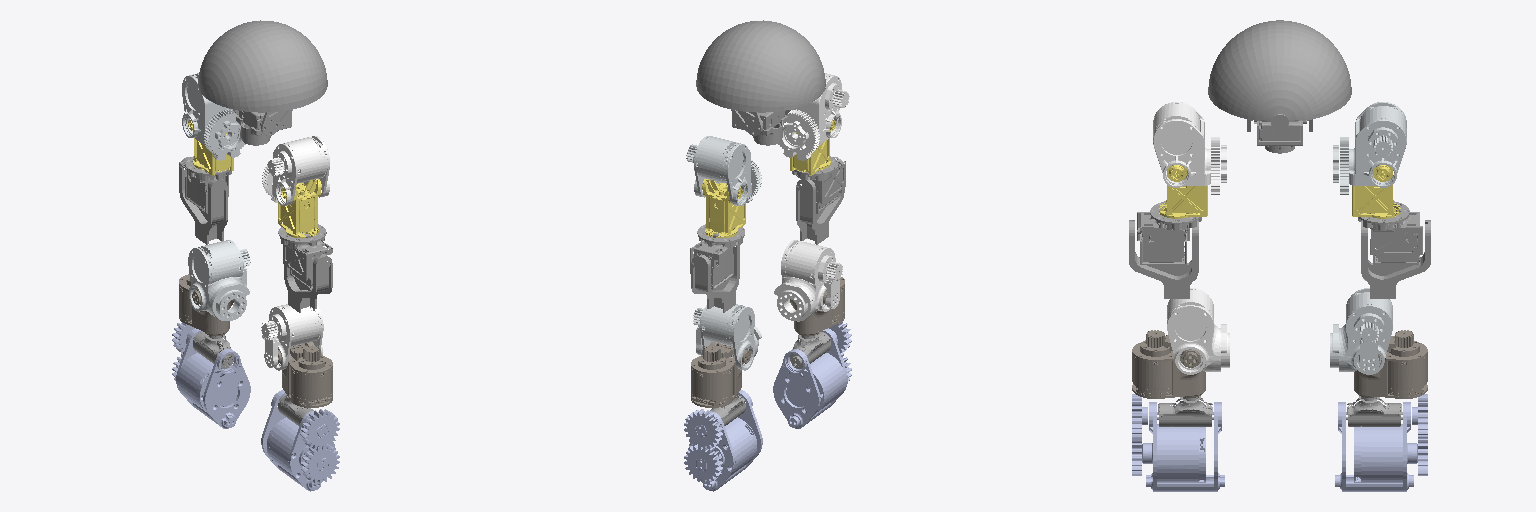
--- Facts derived from the render (not from the file) ---
Views: 3 orthographic renders of the robot side by side, from view 1: azimuth 30°, elevation 25°; view 2: azimuth 150°, elevation 25°; view 3: azimuth 270°, elevation 25°.
Model Pikachu_V025 with 25 links and 24 joints (21 revolute, 3 fixed), rooted at base_link, posed all joints at 0.
Links seen in each view (by area): view 1: head_roll_link, right_knee_link, left_knee_link, left_hip_pitch_link, right_arm_pitch_link, left_arm_pitch_link, right_hip_roll_link, right_hip_pitch_link, left_elbow_ankle_link, right_arm_roll_link, right_arm_yaw_link, right_elbow_ankle_link (+5 smaller); view 2: head_roll_link, left_knee_link, right_knee_link, right_hip_pitch_link, left_arm_pitch_link, right_arm_pitch_link, left_hip_roll_link, left_hip_pitch_link, left_arm_roll_link, right_elbow_ankle_link, left_elbow_ankle_link, left_arm_yaw_link (+5 smaller); view 3: head_roll_link, right_knee_link, left_knee_link, left_arm_pitch_link, right_arm_pitch_link, left_hip_pitch_link, right_hip_pitch_link, right_hip_roll_link, left_hip_roll_link, left_arm_yaw_link, right_arm_yaw_link, left_elbow_ankle_link (+6 smaller).
Boxes of the visible links, box(x1,y1,x2,y2) form: head_roll_link: box(198, 20, 327, 112); right_knee_link: box(261, 390, 339, 491); left_knee_link: box(172, 322, 250, 428); left_hip_pitch_link: box(188, 240, 250, 321); right_arm_pitch_link: box(262, 136, 329, 205); left_arm_pitch_link: box(182, 73, 245, 160); right_hip_roll_link: box(278, 342, 332, 407); right_hip_pitch_link: box(261, 304, 323, 370); left_elbow_ankle_link: box(179, 157, 227, 244); right_arm_roll_link: box(278, 179, 321, 238); right_arm_yaw_link: box(278, 224, 332, 289); right_elbow_ankle_link: box(284, 241, 332, 312); head_roll_link: box(696, 20, 825, 112); left_knee_link: box(684, 390, 762, 491); right_knee_link: box(773, 321, 851, 428); right_hip_pitch_link: box(774, 240, 842, 321); left_arm_pitch_link: box(686, 136, 761, 205); right_arm_pitch_link: box(778, 73, 849, 160); left_hip_roll_link: box(691, 342, 750, 407); left_hip_pitch_link: box(693, 304, 761, 370); left_arm_roll_link: box(702, 179, 745, 237); right_elbow_ankle_link: box(796, 157, 844, 244); left_elbow_ankle_link: box(691, 245, 739, 312); left_arm_yaw_link: box(690, 224, 744, 289); head_roll_link: box(1208, 20, 1351, 130); right_knee_link: box(1132, 394, 1224, 491); left_knee_link: box(1335, 394, 1427, 491); left_arm_pitch_link: box(1333, 102, 1406, 194); right_arm_pitch_link: box(1153, 102, 1226, 194); left_hip_pitch_link: box(1330, 288, 1392, 374); right_hip_pitch_link: box(1167, 288, 1229, 374); right_hip_roll_link: box(1132, 330, 1205, 398); left_hip_roll_link: box(1354, 330, 1427, 398); left_arm_yaw_link: box(1358, 201, 1422, 264); right_arm_yaw_link: box(1137, 201, 1201, 264); left_elbow_ankle_link: box(1361, 220, 1430, 298).
Bounding box of the posed robot: 0.14 × 0.2946 × 0.502 m (x, y, z).
19 mesh visuals loaded from 22 distinct referenced files (19 binary STL); not drawn: 3 (reference not matched to a file when rendering).

robot.urdf — Pikachu_V025:
<?xml version="1.0" encoding="utf-8"?>
<!-- This URDF was automatically created by SolidWorks to URDF Exporter! Originally created by Stephen Brawner ([email redacted]) 
     Commit Version: 1.6.0-4-g7f85cfe  Build Version: 1.6.7995.38578
     For more information, please see http://wiki.ros.org/sw_urdf_exporter -->
<robot
  name="Pikachu_V025">
  
  
  <!-- mujoco compiler insert -->
  
  <!-- <mujoco>
      <compiler 
      meshdir="assets/" 
      balanceinertia="true" 
      discardvisual="false"
      fusestatic="false"/> 
  </mujoco>
   -->
      
  <link
    name="base_link">
    <inertial>
      <origin
        xyz="-0.0248658973161246 -0.000239074546610159 0.104279920407504"
        rpy="0 0 0" />
      <mass
        value="1.4349217625148" />
      <inertia
        ixx="0.00227809712360146"
        ixy="2.98174508376629E-06"
        ixz="5.78838254414908E-05"
        iyy="0.00253243484222684"
        iyz="-1.55554654561799E-07"
        izz="0.00126163128832767" />
    </inertial>
    <visual>
      <origin
        xyz="0 0 0"
        rpy="0 0 0" />
      <geometry>
        <mesh
          filename="assets/base_torso_link.STL" />
      </geometry>
      <material
        name="">
        <color
          rgba="0.792156862745098 0.819607843137255 0.933333333333333 1" />
      </material>
    </visual>
    <collision>
      <origin
        xyz="0 0 0"
        rpy="0 0 0" />
      <geometry>
        <mesh
          filename="assets/base_torso_link.STL" />
      </geometry>
    </collision>
  </link>
  <link
    name="left_hip_pitch_link">
    <inertial>
      <origin
        xyz="0.00920325123013891 0.0289511213720265 0.0244534242110747"
        rpy="0 0 0" />
      <mass
        value="0.131128174369325" />
      <inertia
        ixx="3.09443359493404E-05"
        ixy="-1.46711074625832E-10"
        ixz="4.46526538448141E-08"
        iyy="2.96006347929105E-05"
        iyz="-1.87708399216609E-06"
        izz="2.46723339503116E-05" />
    </inertial>
    <visual>
      <origin
        xyz="0 0 0"
        rpy="0 0 0" />
      <geometry>
        <mesh
          filename="assets/left_hip_pitch_link.STL" />
      </geometry>
      <material
        name="">
        <color
          rgba="0.898039215686275 0.917647058823529 0.929411764705882 1" />
      </material>
    </visual>
    <collision>
      <origin
        xyz="0 0 0"
        rpy="0 0 0" />
      <geometry>
        <mesh
          filename="assets/left_hip_pitch_link.STL" />
      </geometry>
    </collision>
  </link>
  <joint
    name="left_hip_pitch_joint"
    type="revolute">
    <origin
      xyz="0 0.0515 0"
      rpy="0 0 0" />
    <parent
      link="base_link" />
    <child
      link="left_hip_pitch_link" />
    <axis
      xyz="0 -1 0" />
    <limit 
      lower="0"    
      upper="2.44"    
      effort="12.5"  
      velocity="2" />
   <dynamics 
      damping="0.4" 
      friction="0.01" />

  </joint>
  <link
    name="left_hip_roll_link">
    <inertial>
      <origin
        xyz="-2.06148097191985E-05 0.0257688798103179 -0.01094856081007"
        rpy="0 0 0" />
      <mass
        value="0.120459927292994" />
      <inertia
        ixx="2.633632775397E-05"
        ixy="-6.5720849529199E-09"
        ixz="1.20682872669599E-09"
        iyy="2.40005074630719E-05"
        iyz="3.94475733639461E-07"
        izz="2.98178904809497E-05" />
    </inertial>
    <visual>
      <origin
        xyz="0 0 0"
        rpy="0 0 0" />
      <geometry>
        <mesh
          filename="assets/left_hip_roll_link.STL" />
      </geometry>
      <material
        name="">
        <color
          rgba="0.647058823529412 0.619607843137255 0.588235294117647 1" />
      </material>
    </visual>
    <collision>
      <origin
        xyz="0 0 0"
        rpy="0 0 0" />
      <geometry>
        <mesh
          filename="assets/left_hip_roll_link.STL" />
      </geometry>
    </collision>
  </link>
  <joint
    name="left_hip_roll_joint"
    type="revolute">
    <origin
      xyz="0 0.0355 0"
      rpy="0 0 0" />
    <parent
      link="left_hip_pitch_link" />
    <child
      link="left_hip_roll_link" />
    <axis
      xyz="1 0 0" />
    <limit 
      lower="-0.09"    
      upper="0.26"    
      effort="9.0"  
      velocity="1" />
   <dynamics 
      damping="0.15" 
      friction="0.01" />

  </joint>
  <link
    name="left_hip_yaw_link">
    <inertial>
      <origin
        xyz="-0.00163503743808888 0.000676763376213745 0.0166626673400821"
        rpy="0 0 0" />
      <mass
        value="0.0410649211793094" />
      <inertia
        ixx="1.77921638680041E-05"
        ixy="9.1300490130741E-12"
        ixz="-1.10953780553641E-10"
        iyy="1.30755369286199E-05"
        iyz="9.36102356344644E-07"
        izz="7.35746919202218E-06" />
    </inertial>
    <visual>
      <origin
        xyz="0 0 0"
        rpy="0 0 0" />
      <geometry>
        <mesh
          filename="assets/left_hip_yaw_link.STL" />
      </geometry>
      <material
        name="">
        <color
          rgba="0.698039215686274 0.698039215686274 0.698039215686274 1" />
      </material>
    </visual>
    <collision>
      <origin
        xyz="0 0 0"
        rpy="0 0 0" />
      <geometry>
        <mesh
          filename="assets/left_hip_yaw_link.STL" />
      </geometry>
    </collision>
  </link>
  <joint
    name="left_hip_yaw_joint"
    type="revolute">
    <origin
      xyz="0 0 -0.046"
      rpy="0 0 0" />
    <parent
      link="left_hip_roll_link" />
    <child
      link="left_hip_yaw_link" />
    <axis
      xyz="0 0 1" />
    <limit 
      lower="-0.09"    
      upper="0.26"    
      effort="9.0"  
      velocity="1" />
   <dynamics 
      damping="0.15" 
      friction="0.01" />

  </joint>
  <link
    name="left_knee_link">
    <inertial>
      <origin
        xyz="7.33450698506389E-06 0.0238046516753096 -0.0335203032723837"
        rpy="0 0 0" />
      <mass
        value="0.218032110410692" />
      <inertia
        ixx="8.40369294332751E-05"
        ixy="-2.57475258202327E-09"
        ixz="-1.01985530829951E-07"
        iyy="8.32268027679501E-05"
        iyz="1.36287215654808E-07"
        izz="7.04023370459197E-05" />
    </inertial>
    <visual>
      <origin
        xyz="0 0 0"
        rpy="0 0 0" />
      <geometry>
        <mesh
          filename="assets/left_knee_link.STL" />
      </geometry>
      <material
        name="">
        <color
          rgba="0.792156862745098 0.819607843137255 0.933333333333333 1" />
      </material>
    </visual>
    <collision>
      <origin
        xyz="0 0 0"
        rpy="0 0 0" />
      <geometry>
        <mesh
          filename="assets/left_knee_link.STL" />
      </geometry>
    </collision>
  </link>
  <joint
    name="left_knee_joint"
    type="revolute">
    <origin
      xyz="0 0 -0.025"
      rpy="0 0 0" />
    <parent
      link="left_hip_yaw_link" />
    <child
      link="left_knee_link" />
    <axis
      xyz="0 1 0" />
    <limit 
      lower="0"    
      upper="1.57"    
      effort="12.5"  
      velocity="3" />
   <dynamics 
      damping="0.15" 
      friction="0.01" />

  </joint>
  <link
    name="left_ankle_link">
    <inertial>
      <origin
        xyz="-0.0136093342344966 0.0198623071860005 -0.0300854476118434"
        rpy="0 0 0" />
      <mass
        value="0.135141160870832" />
      <inertia
        ixx="6.67189716039094E-05"
        ixy="-2.97400845436551E-06"
        ixz="9.96013005677274E-07"
        iyy="8.35360465025887E-05"
        iyz="1.36310089927655E-06"
        izz="0.000101145055543541" />
    </inertial>
    <visual>
      <origin
        xyz="0 0 0"
        rpy="0 0 0" />
      <geometry>
        <mesh
          filename="assets/left_ankle_flat_link.STL" />
      </geometry>
      <material
        name="">
        <color
          rgba="0.698039215686274 0.698039215686274 0.698039215686274 1" />
      </material>
    </visual>
    <collision>
      <origin
        xyz="0 0 0"
        rpy="0 0 0" />
      <geometry>
        <mesh
          filename="assets/left_ankle_flat_link.STL" />
      </geometry>
    </collision>
  </link>
  <joint
    name="left_ankle_joint"
    type="revolute">
    <origin
      xyz="0 0 -0.0700000000000001"
      rpy="0 0 0" />
    <parent
      link="left_knee_link" />
    <child
      link="left_ankle_link" />
    <axis
      xyz="0 -1 0" />
    <limit 
      lower="-0.52"    
      upper="1.05"    
      effort="9.0"  
      velocity="2" />
   <dynamics 
      damping="0.4" 
      friction="0.01" />

  </joint>
  <link
    name="right_hip_pitch_link">
    <inertial>
      <origin
        xyz="-0.00920325122819299 -0.0289511213718761 0.0244534242087261"
        rpy="0 0 0" />
      <mass
        value="0.131128174380274" />
      <inertia
        ixx="3.09443359518294E-05"
        ixy="-1.46710536496736E-10"
        ixz="-4.46526515209002E-08"
        iyy="2.96006347975272E-05"
        iyz="1.87708399165884E-06"
        izz="2.4672333952739E-05" />
    </inertial>
    <visual>
      <origin
        xyz="0 0 0"
        rpy="0 0 0" />
      <geometry>
        <mesh
          filename="assets/right_hip_pitch_link.STL" />
      </geometry>
      <material
        name="">
        <color
          rgba="1 1 1 1" />
      </material>
    </visual>
    <collision>
      <origin
        xyz="0 0 0"
        rpy="0 0 0" />
      <geometry>
        <mesh
          filename="assets/right_hip_pitch_link.STL" />
      </geometry>
    </collision>
  </link>
  <joint
    name="right_hip_pitch_joint"
    type="revolute">
    <origin
      xyz="0 -0.0515 0"
      rpy="0 0 0" />
    <parent
      link="base_link" />
    <child
      link="right_hip_pitch_link" />
    <axis
      xyz="0 -1 0" />
    <limit 
      lower="0"    
      upper="2.44"    
      effort="12.5"  
      velocity="2" />
   <dynamics 
      damping="0.4" 
      friction="0.01" />

  </joint>
  <link
    name="right_hip_roll_link">
    <inertial>
      <origin
        xyz="-0.000142110260022219 -0.0257568154792935 -0.0109485611671593"
        rpy="0 0 0" />
      <mass
        value="0.120459924755024" />
      <inertia
        ixx="2.63150070908483E-05"
        ixy="-1.49569580778851E-07"
        ixz="9.07152398469171E-09"
        iyy="2.40218277317685E-05"
        iyz="-3.95237725228403E-07"
        izz="2.9817890112597E-05" />
    </inertial>
    <visual>
      <origin
        xyz="0 0 0"
        rpy="0 0 0" />
      <geometry>
        <mesh
          filename="assets/right_hip_roll_link.STL" />
      </geometry>
      <material
        name="">
        <color
          rgba="0.647058823529412 0.619607843137255 0.588235294117647 1" />
      </material>
    </visual>
    <collision>
      <origin
        xyz="0 0 0"
        rpy="0 0 0" />
      <geometry>
        <mesh
          filename="assets/right_hip_roll_link.STL" />
      </geometry>
    </collision>
  </link>
  <joint
    name="right_hip_roll_joint"
    type="revolute">
    <origin
      xyz="0 -0.0355 0"
      rpy="0 0 0" />
    <parent
      link="right_hip_pitch_link" />
    <child
      link="right_hip_roll_link" />
    <axis
      xyz="-1 0 0" />
    <limit 
      lower="-0.09"    
      upper="0.26"    
      effort="9.0"  
      velocity="1" />
   <dynamics 
      damping="0.15" 
      friction="0.01" />

  </joint>
  <link
    name="right_hip_yaw_link">
    <inertial>
      <origin
        xyz="0.00163503784617864 -0.000676764004111763 0.01666266460157"
        rpy="0 0 0" />
      <mass
        value="0.0410649258706904" />
      <inertia
        ixx="1.77921636373127E-05"
        ixy="9.35880735910971E-12"
        ixz="1.10974469680388E-10"
        iyy="1.30755369833068E-05"
        iyz="-9.3610219772242E-07"
        izz="7.35746904660498E-06" />
    </inertial>
    <visual>
      <origin
        xyz="0 0 0"
        rpy="0 0 0" />
      <geometry>
        <mesh
          filename="assets/right_hip_yaw_link.STL" />
      </geometry>
      <material
        name="">
        <color
          rgba="0.698039215686274 0.698039215686274 0.698039215686274 1" />
      </material>
    </visual>
    <collision>
      <origin
        xyz="0 0 0"
        rpy="0 0 0" />
      <geometry>
        <mesh
          filename="assets/right_hip_yaw_link.STL" />
      </geometry>
    </collision>
  </link>
  <joint
    name="right_hip_yaw_joint"
    type="revolute">
    <origin
      xyz="0 0 -0.046"
      rpy="0 0 0" />
    <parent
      link="right_hip_roll_link" />
    <child
      link="right_hip_yaw_link" />
    <axis
      xyz="0 0 -1" />
    <limit 
      lower="-0.09"    
      upper="0.26"    
      effort="9.0"  
      velocity="1" />
   <dynamics 
      damping="0.15" 
      friction="0.01" />

  </joint>
  <link
    name="right_knee_link">
    <inertial>
      <origin
        xyz="-7.33450698683058E-06 -0.0238046516753161 -0.0335203032723833"
        rpy="0 0 0" />
      <mass
        value="0.218032110410645" />
      <inertia
        ixx="8.4036928910417E-05"
        ixy="-2.57475258205218E-09"
        ixz="1.01987015064204E-07"
        iyy="8.322680276795E-05"
        iyz="-1.3628721565477E-07"
        izz="7.04023375687777E-05" />
    </inertial>
    <visual>
      <origin
        xyz="0 0 0"
        rpy="0 0 0" />
      <geometry>
        <mesh
          filename="assets/right_knee_link.STL" />
      </geometry>
      <material
        name="">
        <color
          rgba="0.792156862745098 0.819607843137255 0.933333333333333 1" />
      </material>
    </visual>
    <collision>
      <origin
        xyz="0 0 0"
        rpy="0 0 0" />
      <geometry>
        <mesh
          filename="assets/right_knee_link.STL" />
      </geometry>
    </collision>
  </link>
  <joint
    name="right_knee_joint"
    type="revolute">
    <origin
      xyz="0 0 -0.025"
      rpy="0 0 0" />
    <parent
      link="right_hip_yaw_link" />
    <child
      link="right_knee_link" />
    <axis
      xyz="0 1 0" />
    <limit 
      lower="0"    
      upper="1.57"    
      effort="12.5"  
      velocity="3" />
   <dynamics 
      damping="0.4" 
      friction="0.01" />

  </joint>
  <link
    name="right_ankle_link">
    <inertial>
      <origin
        xyz="0.0136093360600406 -0.0198623023460545 -0.0300854512020533"
        rpy="0 0 0" />
      <mass
        value="0.135141197847379" />
      <inertia
        ixx="6.67189744538841E-05"
        ixy="-2.97400854018268E-06"
        ixz="-9.96006670402407E-07"
        iyy="8.3536063675579E-05"
        iyz="-1.36310064921441E-06"
        izz="0.000101145069800044" />
    </inertial>
    <visual>
      <origin
        xyz="0 0 0"
        rpy="0 0 0" />
      <geometry>
        <mesh
          filename="assets/right_ankle_flat_link.STL" />
      </geometry>
      <material
        name="">
        <color
          rgba="1 1 1 1" />
      </material>
    </visual>
    <collision>
      <origin
        xyz="0 0 0"
        rpy="0 0 0" />
      <geometry>
        <mesh
          filename="assets/right_ankle_flat_link.STL" />
      </geometry>
    </collision>
  </link>
  <joint
    name="right_ankle_joint"
    type="revolute">
    <origin
      xyz="0 0 -0.0700000000001066"
      rpy="0 0 0" />
    <parent
      link="right_knee_link" />
    <child
      link="right_ankle_link" />
    <axis
      xyz="0 -1 0" />
    <limit 
      lower="-0.52"    
      upper="1.05"    
      effort="9.0"  
      velocity="2" />
   <dynamics 
      damping="0.15" 
      friction="0.01" />
  </joint>
  <link
    name="left_arm_pitch_link">
    <inertial>
      <origin
        xyz="0.00573526587764458 0.0343502951506064 0.0197089333282915"
        rpy="0 0 0" />
      <mass
        value="0.157017666363809" />
      <inertia
        ixx="3.80986838490532E-05"
        ixy="-2.86794818700534E-11"
        ixz="-7.976255231312E-09"
        iyy="4.3359742587208E-05"
        iyz="-1.4809929925462E-06"
        izz="3.27805945719431E-05" />
    </inertial>
    <visual>
      <origin
        xyz="0 0 0"
        rpy="0 0 0" />
      <geometry>
        <mesh
          filename="assets/left_arm_pitch_link.STL" />
      </geometry>
      <material
        name="">
        <color
          rgba="0.898039215686275 0.917647058823529 0.929411764705882 1" />
      </material>
    </visual>
    <collision>
      <origin
        xyz="0 0 0"
        rpy="0 0 0" />
      <geometry>
        <mesh
          filename="assets/left_arm_pitch_link.STL" />
      </geometry>
    </collision>
  </link>
  <joint
    name="left_arm_pitch_joint"
    type="revolute">
    <origin
      xyz="0 0.0515 0.2"
      rpy="0 0 0" />
    <parent
      link="base_link" />
    <child
      link="left_arm_pitch_link" />
    <axis
      xyz="0 -1 0" />
    <limit 
      lower="-1.05"    
      upper="3.14"    
      effort="9"  
      velocity="2" />
   <dynamics 
      damping="0.1" 
      friction="0.01" />

  </joint>
  <link
    name="left_arm_roll_link">
    <inertial>
      <origin
        xyz="4.99147609670503E-05 -0.00641433355138372 -0.0240057735326002"
        rpy="0 0 0" />
      <mass
        value="0.021192024621192" />
      <inertia
        ixx="1.00981633999349E-05"
        ixy="-1.33918863673402E-09"
        ixz="-8.85774639613302E-11"
        iyy="1.02806378583624E-05"
        iyz="-2.6463907601179E-07"
        izz="5.85635405459114E-06" />
    </inertial>
    <visual>
      <origin
        xyz="0 0 0"
        rpy="0 0 0" />
      <geometry>
        <mesh
          filename="assets/left_arm_roll_link.STL" />
      </geometry>
      <material
        name="">
        <color
          rgba="1 0.945098039215686 0.513725490196078 1" />
      </material>
    </visual>
    <collision>
      <origin
        xyz="0 0 0"
        rpy="0 0 0" />
      <geometry>
        <mesh
          filename="assets/left_arm_roll_link.STL" />
      </geometry>
    </collision>
  </link>
  <joint
    name="left_arm_roll_joint"
    type="revolute">
    <origin
      xyz="0 0.049 0"
      rpy="0 0 0" />
    <parent
      link="left_arm_pitch_link" />
    <child
      link="left_arm_roll_link" />
    <axis
      xyz="1 0 0" />
    <limit 
      lower="0.0"    
      upper="1.57"    
      effort="9"  
      velocity="2" />
   <dynamics 
      damping="0.1" 
      friction="0.01" />

  </joint>
  <link
    name="left_arm_yaw_link">
    <inertial>
      <origin
        xyz="0.00210961633631391 0.00808710734491989 -0.01865168324226"
        rpy="0 0 0" />
      <mass
        value="0.0245464038310501" />
      <inertia
        ixx="1.16208352507524E-05"
        ixy="-1.69155936797095E-07"
        ixz="1.40718871563655E-07"
        iyy="8.78579437330603E-06"
        iyz="9.12718875115547E-07"
        izz="9.89698208892374E-06" />
    </inertial>
    <visual>
      <origin
        xyz="0 0 0"
        rpy="0 0 0" />
      <geometry>
        <mesh
          filename="assets/left_arm_yaw_link.STL" />
      </geometry>
      <material
        name="">
        <color
          rgba="0.698039215686274 0.698039215686274 0.698039215686274 1" />
      </material>
    </visual>
    <collision>
      <origin
        xyz="0 0 0"
        rpy="0 0 0" />
      <geometry>
        <mesh
          filename="assets/left_arm_yaw_link.STL" />
      </geometry>
    </collision>
  </link>
  <joint
    name="left_arm_yaw_joint"
    type="revolute">
    <origin
      xyz="5.00000000000137E-05 0 -0.051"
      rpy="0 0 0" />
    <parent
      link="left_arm_roll_link" />
    <child
      link="left_arm_yaw_link" />
    <axis
      xyz="0 0 1" />
    <limit 
      lower="-1.57"    
      upper="1.57"    
      effort="9"  
      velocity="2" />
   <dynamics 
      damping="0.1" 
      friction="0.01" />

  </joint>
  <link
    name="left_elbow_ankle_link">
    <inertial>
      <origin
        xyz="1.42606466999734E-15 0.00793437988860006 -0.0327214156612208"
        rpy="0 0 0" />
      <mass
        value="0.0144258718112896" />
      <inertia
        ixx="1.41115697803212E-05"
        ixy="-1.25902502289946E-18"
        ixz="2.23082407365642E-18"
        iyy="7.31533316040081E-06"
        iyz="-1.48559125128579E-06"
        izz="8.14850816676156E-06" />
    </inertial>
    <visual>
      <origin
        xyz="0 0 0"
        rpy="0 0 0" />
      <geometry>
        <mesh
          filename="assets/left_elbow_link.STL" />
      </geometry>
      <material
        name="">
        <color
          rgba="0.698039215686274 0.698039215686274 0.698039215686274 1" />
      </material>
    </visual>
    <collision>
      <origin
        xyz="0 0 0"
        rpy="0 0 0" />
      <geometry>
        <mesh
          filename="assets/left_elbow_link.STL" />
      </geometry>
    </collision>
  </link>
  <joint
    name="left_elbow_ankle_joint"
    type="revolute">
    <origin
      xyz="0 0 -0.021"
      rpy="0 0 0" />
    <parent
      link="left_arm_yaw_link" />
    <child
      link="left_elbow_ankle_link" />
    <axis
      xyz="0 -1 0" />
    <limit 
      lower="0"    
      upper="2.44"    
      effort="9"  
      velocity="2" />
   <dynamics 
      damping="0.1" 
      friction="0.01" />

  </joint>
  <link
    name="right_arm_pitch_link">
    <inertial>
      <origin
        xyz="-0.00573526587764467 -0.0343502951506065 0.0197089333282915"
        rpy="0 0 0" />
      <mass
        value="0.157017666363809" />
      <inertia
        ixx="3.80986838490531E-05"
        ixy="-2.86794818826329E-11"
        ixz="7.97625523130349E-09"
        iyy="4.3359742587208E-05"
        iyz="1.48099299254621E-06"
        izz="3.27805945719431E-05" />
    </inertial>
    <visual>
      <origin
        xyz="0 0 0"
        rpy="0 0 0" />
      <geometry>
        <mesh
          filename="assets/right_arm_pitch_link.STL" />
      </geometry>
      <material
        name="">
        <color
          rgba="1 1 1 1" />
      </material>
    </visual>
    <collision>
      <origin
        xyz="0 0 0"
        rpy="0 0 0" />
      <geometry>
        <mesh
          filename="assets/right_arm_pitch_link.STL" />
      </geometry>
    </collision>
  </link>
  <joint
    name="right_arm_pitch_joint"
    type="revolute">
    <origin
      xyz="0 -0.0515 0.2"
      rpy="0 0 0" />
    <parent
      link="base_link" />
    <child
      link="right_arm_pitch_link" />
    <axis
      xyz="0 -1 0" />
    <limit 
      lower="-1.05"    
      upper="3.14"    
      effort="9"  
      velocity="2" />
   <dynamics 
      damping="0.1" 
      friction="0.01" />

  </joint>
  <link
    name="right_arm_roll_link">
    <inertial>
      <origin
        xyz="-4.99147609489854E-05 0.00641433355139448 -0.0240057735326245"
        rpy="0 0 0" />
      <mass
        value="0.0211920246211624" />
      <inertia
        ixx="1.00981633999257E-05"
        ixy="-1.33918863331757E-09"
        ixz="8.85774574540572E-11"
        iyy="1.02806378583495E-05"
        iyz="2.64639076008448E-07"
        izz="5.85635405458328E-06" />
    </inertial>
    <visual>
      <origin
        xyz="0 0 0"
        rpy="0 0 0" />
      <geometry>
        <mesh
          filename="assets/right_arm_roll_link.STL" />
      </geometry>
      <material
        name="">
        <color
          rgba="1 0.945098039215686 0.513725490196078 1" />
      </material>
    </visual>
    <collision>
      <origin
        xyz="0 0 0"
        rpy="0 0 0" />
      <geometry>
        <mesh
          filename="assets/right_arm_roll_link.STL" />
      </geometry>
    </collision>
  </link>
  <joint
    name="right_arm_roll_joint"
    type="revolute">
    <origin
      xyz="0 -0.049 0"
      rpy="0 0 0" />
    <parent
      link="right_arm_pitch_link" />
    <child
      link="right_arm_roll_link" />
    <axis
      xyz="-1 0 0" />
    <limit 
      lower="0.0"    
      upper="1.57"    
      effort="9"  
      velocity="2" />
   <dynamics 
      damping="0.1" 
      friction="0.01" />

  </joint>
  <link
    name="right_arm_yaw_link">
    <inertial>
      <origin
        xyz="-0.00210961637146437 -0.00808710743784105 -0.0186516832776829"
        rpy="0 0 0" />
      <mass
        value="0.0245464036232747" />
      <inertia
        ixx="1.16208352108784E-05"
        ixy="-1.69155922957163E-07"
        ixz="-1.40718862771802E-07"
        iyy="8.78579434400106E-06"
        iyz="-9.12718853935147E-07"
        izz="9.89698204860492E-06" />
    </inertial>
    <visual>
      <origin
        xyz="0 0 0"
        rpy="0 0 0" />
      <geometry>
        <mesh
          filename="assets/right_arm_yaw_link.STL" />
      </geometry>
      <material
        name="">
        <color
          rgba="0.698039215686274 0.698039215686274 0.698039215686274 1" />
      </material>
    </visual>
    <collision>
      <origin
        xyz="0 0 0"
        rpy="0 0 0" />
      <geometry>
        <mesh
          filename="assets/right_arm_yaw_link.STL" />
      </geometry>
    </collision>
  </link>
  <joint
    name="right_arm_yaw_joint"
    type="revolute">
    <origin
      xyz="-5.00000000000223E-05 0 -0.051"
      rpy="0 0 0" />
    <parent
      link="right_arm_roll_link" />
    <child
      link="right_arm_yaw_link" />
    <axis
      xyz="0 0 1" />
    <limit 
      lower="-1.57"    
      upper="1.57"    
      effort="9"  
      velocity="2" />
   <dynamics 
      damping="0.1" 
      friction="0.01" />

  </joint>
  <link
    name="right_elbow_ankle_link">
    <inertial>
      <origin
        xyz="-1.42629506295899E-15 -0.00793437988860005 -0.0327214156612207"
        rpy="0 0 0" />
      <mass
        value="0.0144258718112896" />
      <inertia
        ixx="1.41115697803212E-05"
        ixy="-1.25606910079746E-18"
        ixz="-2.2316209791103E-18"
        iyy="7.31533316040081E-06"
        iyz="1.48559125128579E-06"
        izz="8.14850816676155E-06" />
    </inertial>
    <visual>
      <origin
        xyz="0 0 0"
        rpy="0 0 0" />
      <geometry>
        <mesh
          filename="assets/right_elbow_link.STL" />
      </geometry>
      <material
        name="">
        <color
          rgba="0.698039215686274 0.698039215686274 0.698039215686274 1" />
      </material>
    </visual>
    <collision>
      <origin
        xyz="0 0 0"
        rpy="0 0 0" />
      <geometry>
        <mesh
          filename="assets/right_elbow_link.STL" />
      </geometry>
    </collision>
  </link>
  <joint
    name="right_elbow_ankle_joint"
    type="revolute">
    <origin
      xyz="0 0 -0.021"
      rpy="0 0 0" />
    <parent
      link="right_arm_yaw_link" />
    <child
      link="right_elbow_ankle_link" />
    <axis
      xyz="0 -1 0" />
    <limit 
      lower="0"    
      upper="2.44"    
      effort="9"  
      velocity="2" />
   <dynamics 
      damping="0.1" 
      friction="0.01" />

  </joint>
<!-- head -->
 <link
    name="head_yaw_link">
    <inertial>
      <origin
        xyz="0.00858017093112448 0.000719814150642338 0.0147686016389528"
        rpy="0 0 0" />
      <mass
        value="0.0141160133256498" />
      <inertia
        ixx="3.61080348586957E-06"
        ixy="4.8664772808746E-09"
        ixz="-6.21662122402994E-07"
        iyy="3.64450072937737E-06"
        iyz="4.11005873643691E-09"
        izz="5.28184236847949E-06" />
    </inertial>
    <visual>
      <origin
        xyz="0 0 0"
        rpy="0 0 0" />
      <geometry>
        <mesh
          filename="assets/head_yaw_link.STL" />
      </geometry>
      <material
        name="">
        <color
          rgba="0.698039215686274 0.698039215686274 0.698039215686274 1" />
      </material>
    </visual>
    <collision>
      <origin
        xyz="0 0 0"
        rpy="0 0 0" />
      <geometry>
        <mesh
          filename="assets/head_yaw_link.STL" />
      </geometry>
    </collision>
  </link>
  <joint
    name="head_yaw_joint"
    type="revolute">
    <origin
      xyz="0 0 0.222200152466514"
      rpy="0 0 0" />
    <parent
      link="base_link" />
    <child
      link="head_yaw_link" />
    <axis
      xyz="0 0 1" />
    <limit 
      lower="-1.05"    
      upper="1.05"    
      effort="3"  
      velocity="1" />
   <dynamics 
      damping="0.1" 
      friction="0.01" />

  </joint>
  <link
    name="head_pitch_link">
    <inertial>
      <origin
        xyz="0.0159078387039459 3.9411519662795E-05 0.0304494405281682"
        rpy="0 0 0" />
      <mass
        value="0.0286440852976906" />
      <inertia
        ixx="1.34864124901756E-05"
        ixy="1.5193487484689E-08"
        ixz="-8.26038836850646E-07"
        iyy="8.15190337168604E-06"
        iyz="1.96584959390267E-08"
        izz="1.42991578534413E-05" />
    </inertial>
    <visual>
      <origin
        xyz="0 0 0"
        rpy="0 0 0" />
      <geometry>
        <mesh
          filename="assets/head_pitch_link.STL" />
      </geometry>
      <material
        name="">
        <color
          rgba="0.698039215686274 0.698039215686274 0.698039215686274 1" />
      </material>
    </visual>
    <collision>
      <origin
        xyz="0 0 0"
        rpy="0 0 0" />
      <geometry>
        <mesh
          filename="assets/head_pitch_link.STL" />
      </geometry>
    </collision>
  </link>
  <joint
    name="head_pitch_joint"
    type="revolute">
    <origin
      xyz="0 0 0.0239999999999201"
      rpy="0 0 0" />
    <parent
      link="head_yaw_link" />
    <child
      link="head_pitch_link" />
    <axis
      xyz="0 -1 0" />
    <limit 
      lower="-1.05"    
      upper="1.05"    
      effort="3"  
      velocity="1" />
   <dynamics 
      damping="0.1" 
      friction="0.01" />
  </joint>
  <link
    name="head_roll_link">
    <inertial>
      <origin
        xyz="0.0206530299597276 6.52256026967279E-16 0.0263681653999351"
        rpy="0 0 0" />
      <mass
        value="0.0407810442421983" />
      <inertia
        ixx="7.17219190545514E-05"
        ixy="-2.89272612897703E-19"
        ixz="1.29213009693697E-05"
        iyy="9.12731727155045E-05"
        iyz="1.14759087896708E-19"
        izz="0.000119627423133022" />
    </inertial>
    <visual>
      <origin
        xyz="0 0 0"
        rpy="0 0 0" />
      <geometry>
        <mesh
          filename="assets/head_roll_link.STL" />
      </geometry>
      <material
        name="">
        <color
          rgba="0.698039215686274 0.698039215686274 0.698039215686274 1" />
      </material>
    </visual>
    <collision>
      <origin
        xyz="0 0 0"
        rpy="0 0 0" />
      <geometry>
        <mesh
          filename="assets/head_roll_link.STL" />
      </geometry>
    </collision>
  </link>
  <joint
    name="head_roll_joint"
    type="revolute">
    <origin
      xyz="0 0 0.0350000000000802"
      rpy="0 0 0" />
    <parent
      link="head_pitch_link" />
    <child
      link="head_roll_link" />
    <axis
      xyz="-1 0 0" />
    <limit 
      lower="-1.05"    
      upper="1.05"    
      effort="3"  
      velocity="1" />
   <dynamics 
      damping="0.1" 
      friction="0.01" />
  </joint>
  <!-- Trunk frame for Placo compatibility -->
  <link
    name="trunk">
    <inertial>
      <origin
        xyz="0 0 0"
        rpy="0 0 0" />
      <mass
        value="1e-9" />
      <inertia
        ixx="0"
        ixy="0"
        ixz="0"
        iyy="0"
        iyz="0"
        izz="0" />
    </inertial>
  </link>
  <joint
    name="trunk_frame"
    type="fixed">
    <origin
      xyz="0 0 0.1"
      rpy="0 0 0" />
    <parent
      link="base_link" />
    <child
      link="trunk" />
    <axis
      xyz="0 0 0" />
  </joint>
  <!-- Foot frames for Placo compatibility -->
  <link
    name="left_foot">
    <inertial>
      <origin
        xyz="0 0 0"
        rpy="0 0 0" />
      <mass
        value="1e-9" />
      <inertia
        ixx="0"
        ixy="0"
        ixz="0"
        iyy="0"
        iyz="0"
        izz="0" />
    </inertial>
  </link>
  <joint
    name="left_foot_frame"
    type="fixed">
    <origin
      xyz="0 0 -0.05"
      rpy="0 0 0" />
    <parent
      link="left_ankle_link" />
    <child
      link="left_foot" />
    <axis
      xyz="0 0 0" />
  </joint>
  <link
    name="right_foot">
    <inertial>
      <origin
        xyz="0 0 0"
        rpy="0 0 0" />
      <mass
        value="1e-9" />
      <inertia
        ixx="0"
        ixy="0"
        ixz="0"
        iyy="0"
        iyz="0"
        izz="0" />
    </inertial>
  </link>
  <joint
    name="right_foot_frame"
    type="fixed">
    <origin
      xyz="0 0 -0.05"
      rpy="0 0 0" />
    <parent
      link="right_ankle_link" />
    <child
      link="right_foot" />
    <axis
      xyz="0 0 0" />
  </joint>
  
</robot>
